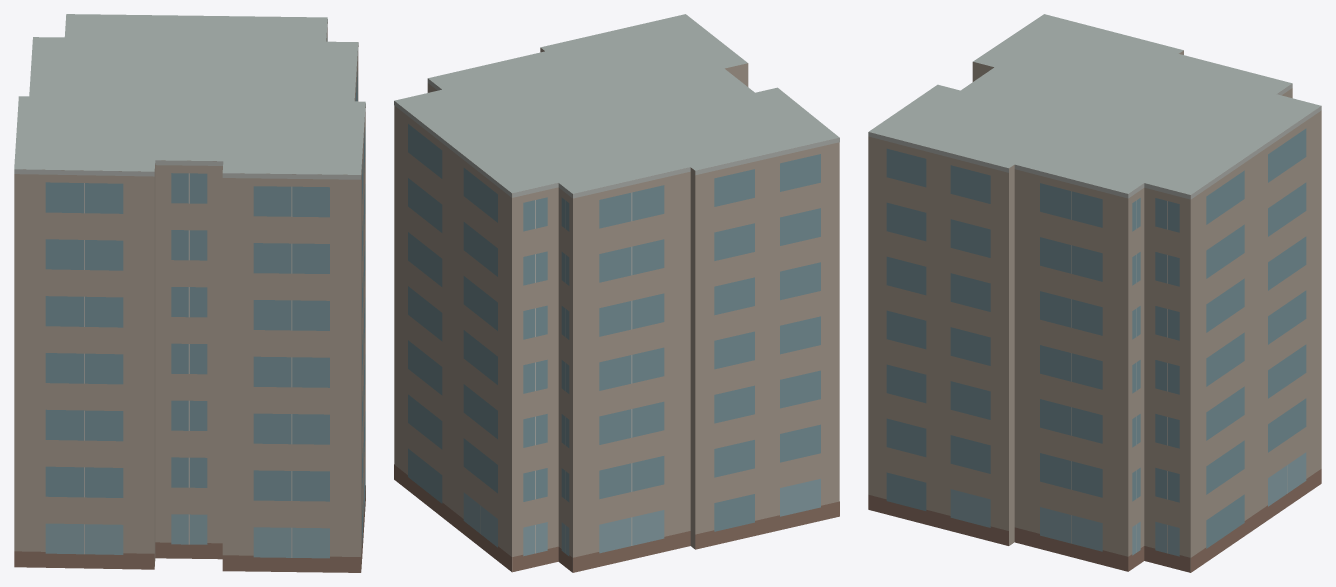
File: survey-upis-32676355.glb
3 views of the same model, side by side, from view 1: azimuth 30°, elevation 25°; view 2: azimuth 150°, elevation 25°; view 3: azimuth 270°, elevation 25° (orthographic). The views are drawn at different scales.
Visible parts, largest first — view 1: survey-upis-32676355.tmp; view 2: survey-upis-32676355.tmp; view 3: survey-upis-32676355.tmp.
Part boxes in pixels (x1,y1,x2,y2): survey-upis-32676355.tmp: [14, 14, 365, 572]; survey-upis-32676355.tmp: [394, 14, 839, 572]; survey-upis-32676355.tmp: [868, 14, 1321, 572].
Bounding box in the file's own units: 20.77 × 20.2 × 21.97.
